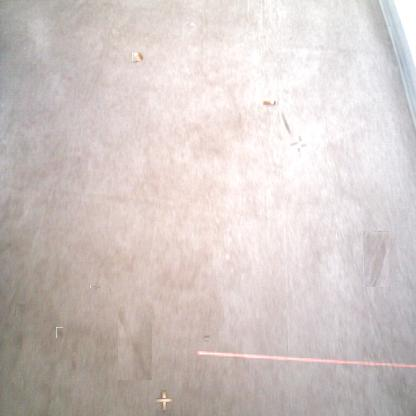dirty: (158, 394, 170, 406), (263, 99, 277, 107), (133, 51, 143, 62)
mark: (118, 306, 152, 380), (364, 231, 390, 287), (281, 111, 292, 136), (14, 303, 28, 317), (293, 139, 306, 151), (14, 333, 22, 347), (56, 327, 63, 338), (70, 357, 76, 369), (202, 333, 210, 341), (92, 283, 100, 290)
